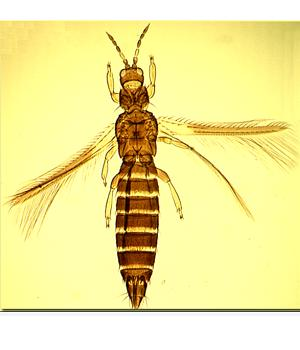Thrips: (10, 26, 296, 305)
